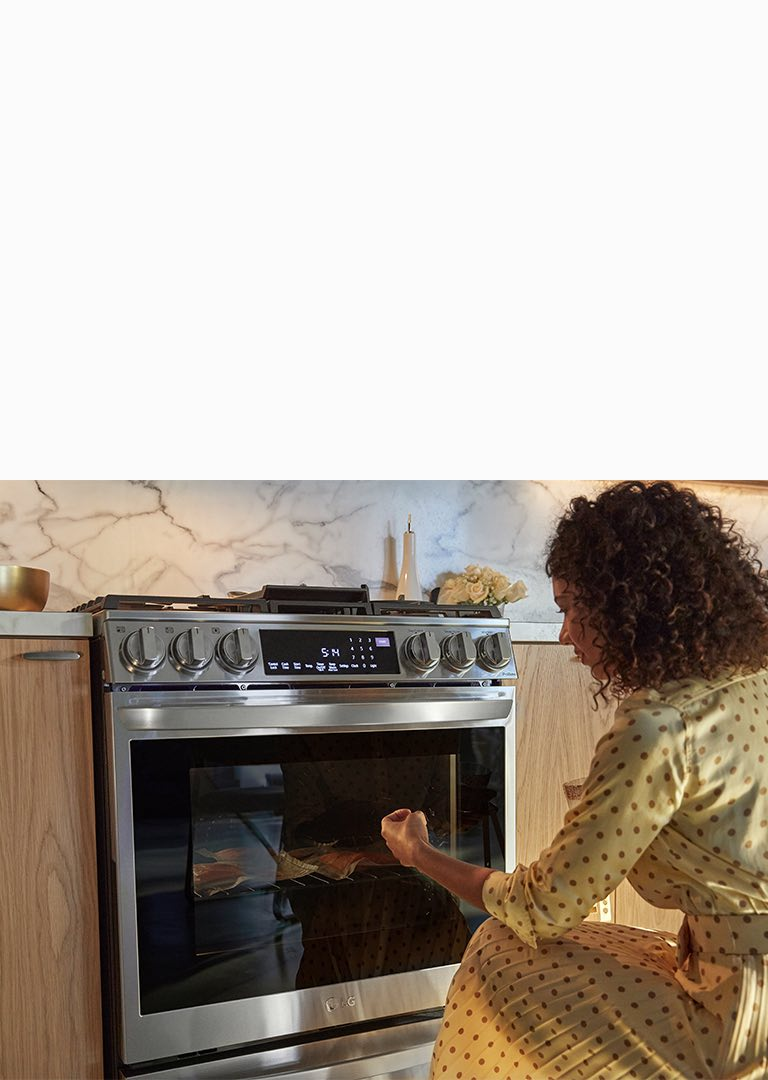stove: (73, 583, 513, 1044)
